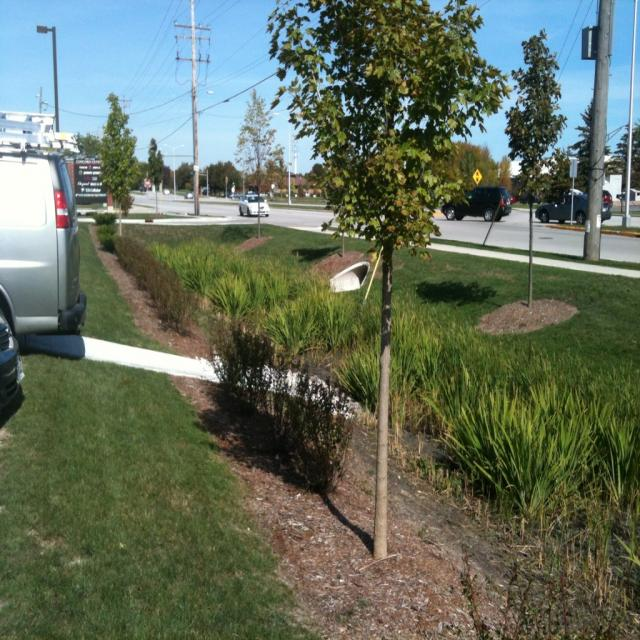other: (0, 139, 85, 336), (534, 185, 610, 226), (0, 317, 18, 393), (238, 192, 268, 218)
